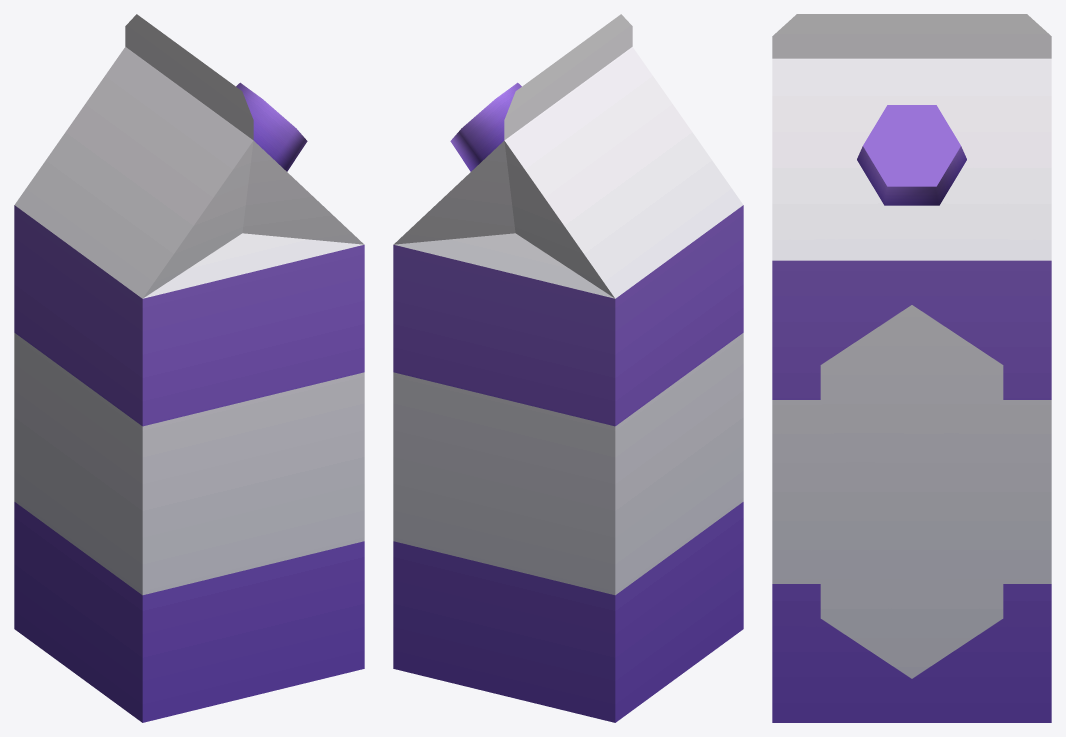
The model's file is carton.4666d172fd.glb.
3 renders of one model, left to right at view 1: azimuth 30°, elevation 25°; view 2: azimuth 150°, elevation 25°; view 3: azimuth 270°, elevation 25°, orthographic. The views are drawn at different scales.
Visible parts, largest first — view 1: carton; view 2: carton; view 3: carton.
Boxes of the visible parts, x1,y1,x2,y2 form: carton: (14, 14, 364, 722); carton: (393, 14, 743, 722); carton: (772, 14, 1051, 722).
Bounding box in the file's own units: 0.23 × 0.5905 × 0.23.
Materials: 1 (1 with a texture image).
